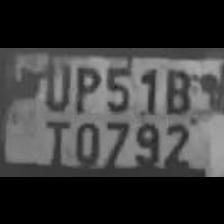0: (69, 115, 101, 165)
1: (133, 64, 161, 114)
2: (160, 118, 192, 168)
5: (100, 61, 132, 113)
7: (100, 114, 128, 168)
9: (130, 114, 162, 166)
B: (160, 64, 192, 114)
P: (69, 60, 101, 114)
T: (36, 114, 70, 166)
U: (40, 57, 72, 112)
